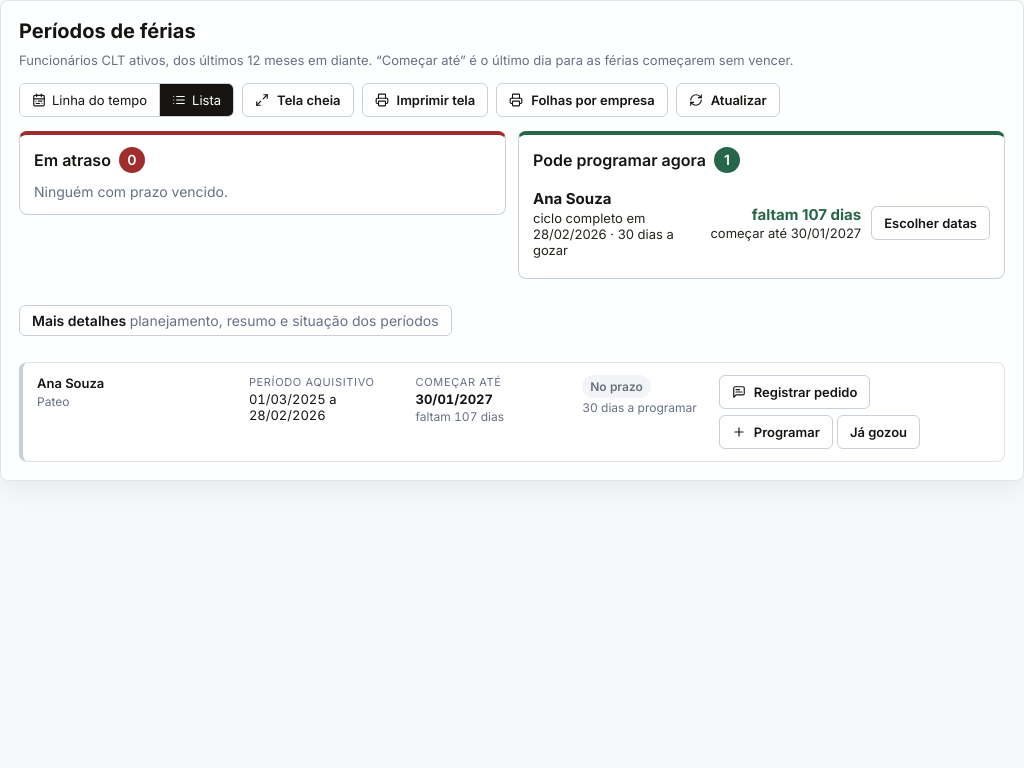
Test: Ferias › avisa em voz alta o que foi gravado e foca o primeiro campo ao abrir o formulário
This screenshot has width=1024, height=768.
Click the button with aria-label "Programar férias de Ana Souza": {"x": 776, "y": 432} [719, 414, 833, 448]
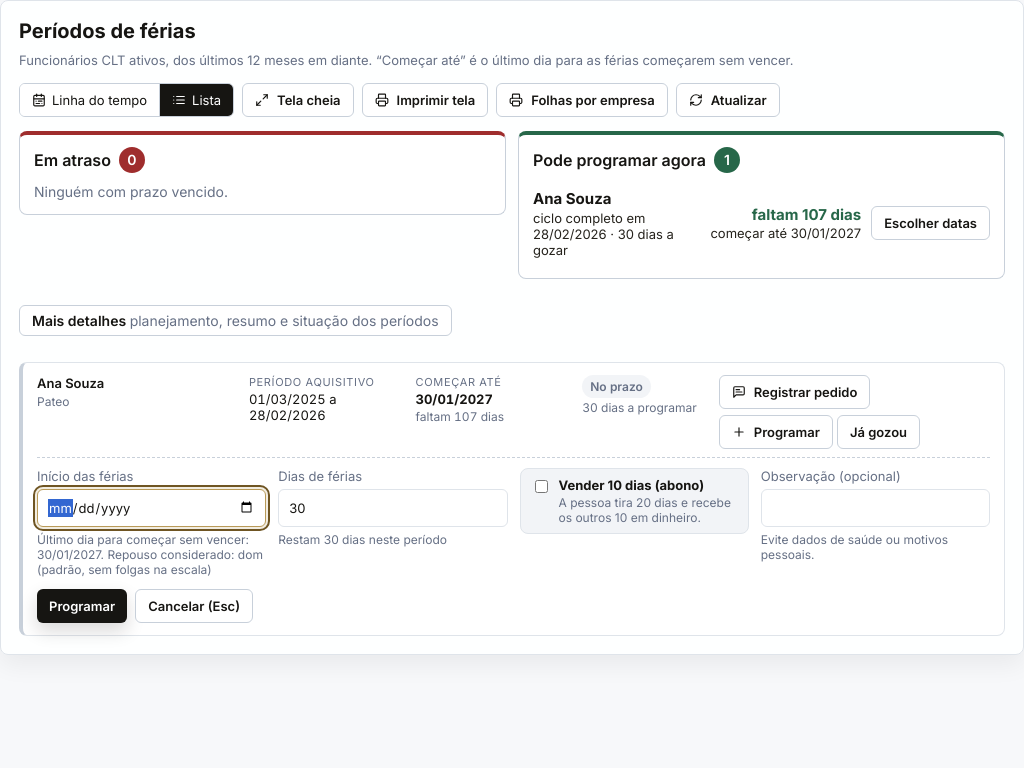
In the date field labelled "Início das férias": {"x": 152, "y": 508} [37, 488, 266, 526], type "2026-12-01"
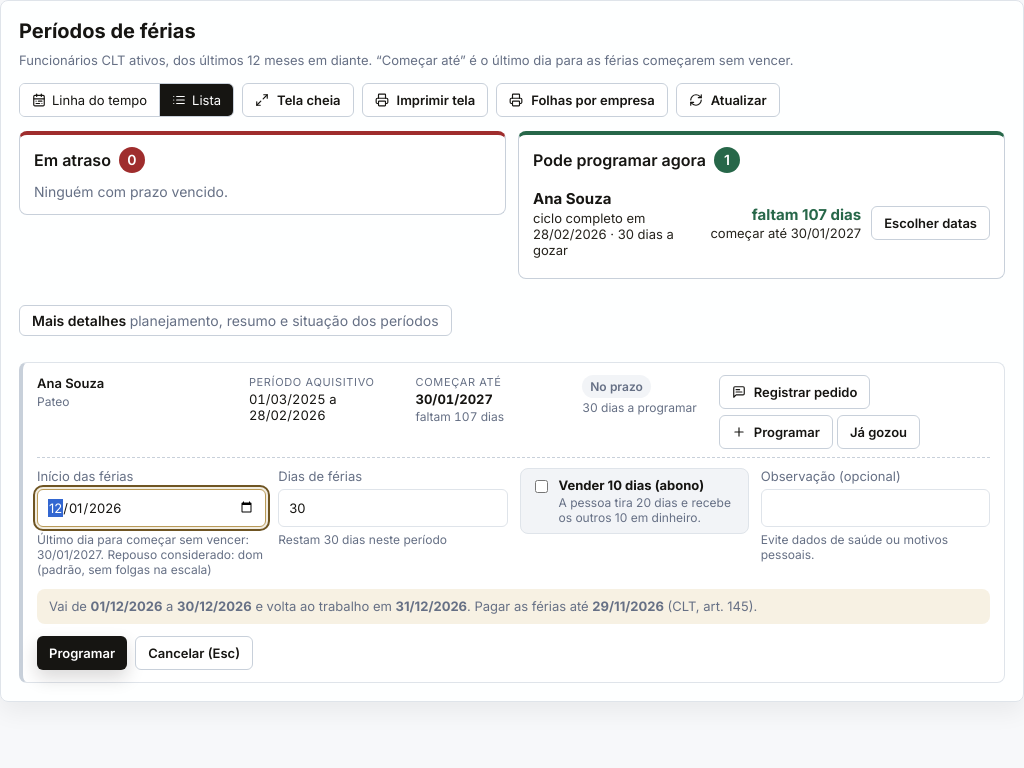
Click the button "Programar" below "Vai de": {"x": 82, "y": 653} [37, 636, 127, 670]
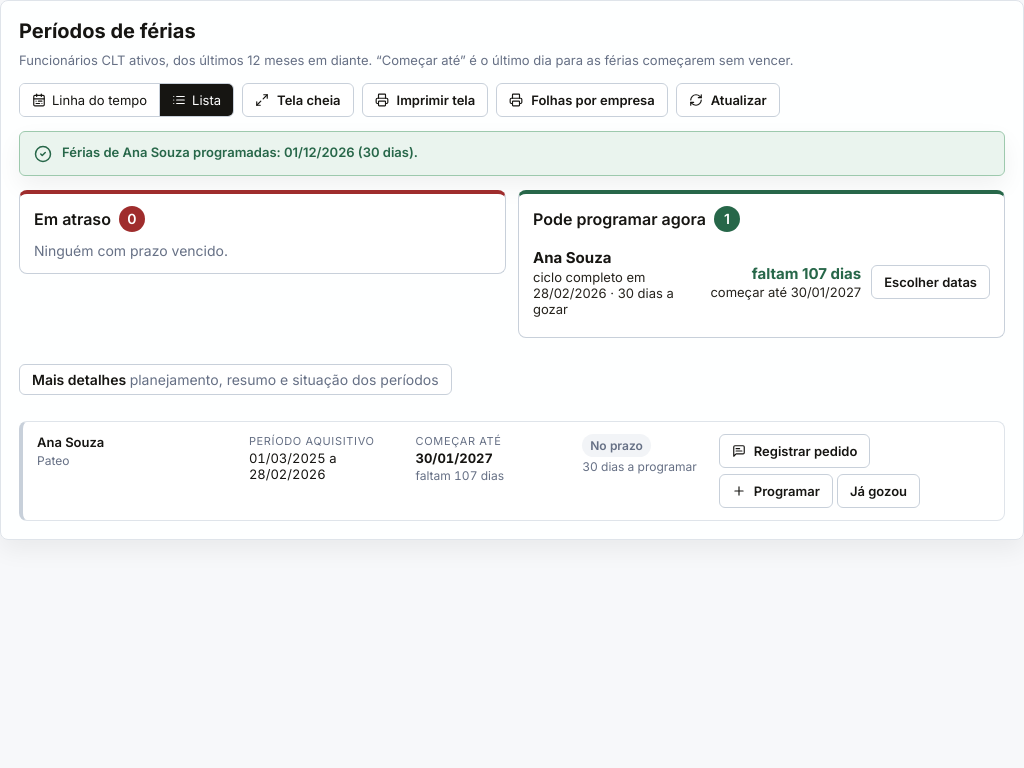
Expected: the text "Férias de Ana Souza programadas: 01/12/2026 (30 dias)." is shown, [62, 144, 418, 161]
